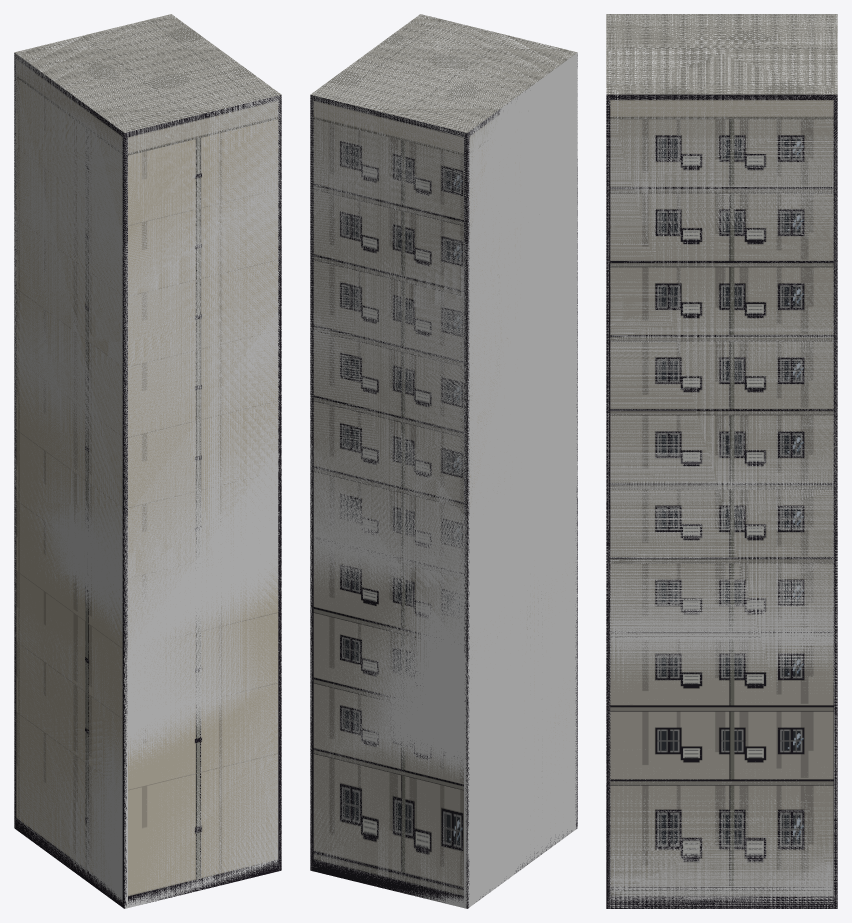
3 views of the same model, side by side, from view 1: azimuth 30°, elevation 25°; view 2: azimuth 150°, elevation 25°; view 3: azimuth 270°, elevation 25° (orthographic). The views are drawn at different scales.
Parts seen in each view (by area): view 1: 19D-E22, COL_19D-E22_0; view 2: COL_19D-E22_0, 19D-E22; view 3: 19D-E22, COL_19D-E22_0.
Part boxes in pixels (bbox=[...]): 19D-E22: bbox=[14, 14, 281, 908]; COL_19D-E22_0: bbox=[14, 14, 281, 908]; COL_19D-E22_0: bbox=[310, 14, 577, 908]; 19D-E22: bbox=[310, 14, 577, 908]; 19D-E22: bbox=[606, 14, 837, 908]; COL_19D-E22_0: bbox=[606, 14, 837, 908].
Bounding box in the file's own units: 7 × 33 × 8.5.
Materials: 1 (1 with a texture image).
